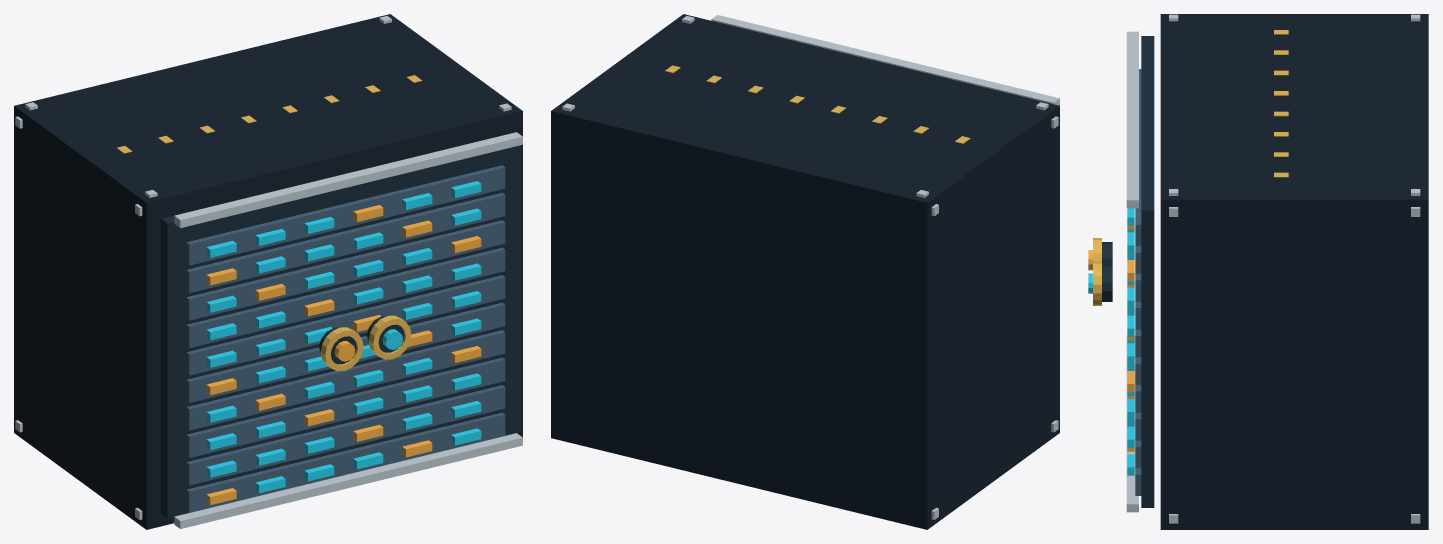
The model's file is 39_L81_WatchdogChallengeResponseModule.fbx.
3 renders of one model, left to right at view 1: azimuth 30°, elevation 25°; view 2: azimuth 150°, elevation 25°; view 3: azimuth 270°, elevation 25°, orthographic.
Parts seen in each view (by area): view 1: WatchdogChallengeResponseModule; view 2: WatchdogChallengeResponseModule; view 3: WatchdogChallengeResponseModule.
Part boxes in pixels (left/top/right/bottom): WatchdogChallengeResponseModule: left=14, top=14, right=522, bottom=529; WatchdogChallengeResponseModule: left=551, top=14, right=1059, bottom=529; WatchdogChallengeResponseModule: left=1088, top=14, right=1428, bottom=529.
Bounding box in the file's own units: 120 × 99.8 × 91.45.
